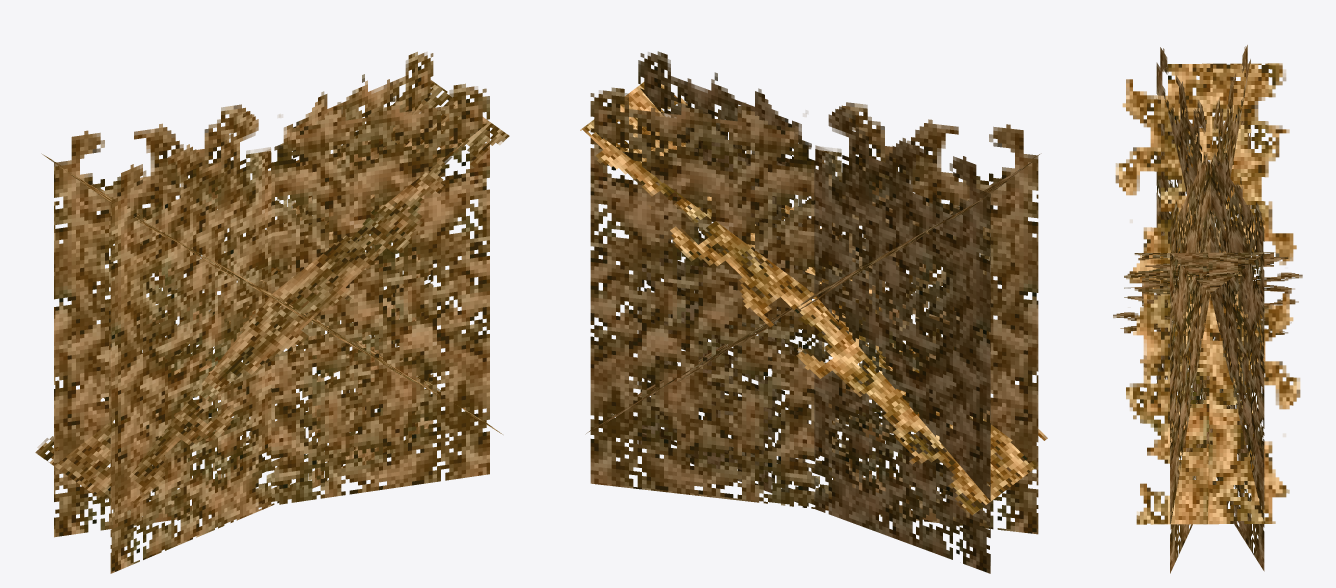
The model's file is bush_tall_full_overgrown_autumn.glb.
The picture shows the model from 3 angles, left to right: view 1: azimuth 30°, elevation 25°; view 2: azimuth 150°, elevation 25°; view 3: azimuth 270°, elevation 25°; orthographic projection. The views are drawn at different scales.
Visible parts, largest first — view 1: bush_tall_full_overgrown_autumn; view 2: bush_tall_full_overgrown_autumn; view 3: bush_tall_full_overgrown_autumn.
Part boxes in pixels (left/top/right/bottom): bush_tall_full_overgrown_autumn: left=35, top=51, right=509, bottom=573; bush_tall_full_overgrown_autumn: left=580, top=51, right=1047, bottom=573; bush_tall_full_overgrown_autumn: left=1113, top=45, right=1302, bottom=573.
Bounding box in the file's own units: 2 × 2.06 × 1.08.
Materials: 1 (1 with a texture image).
